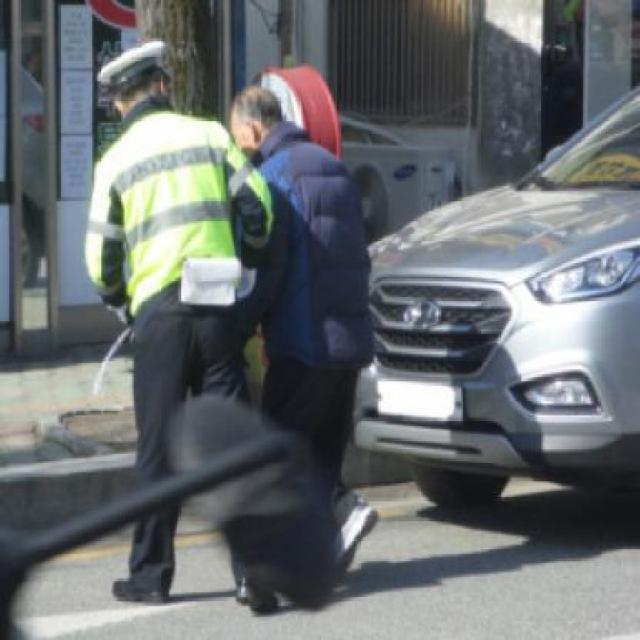Person: (90, 56, 272, 613), (228, 89, 382, 600)
